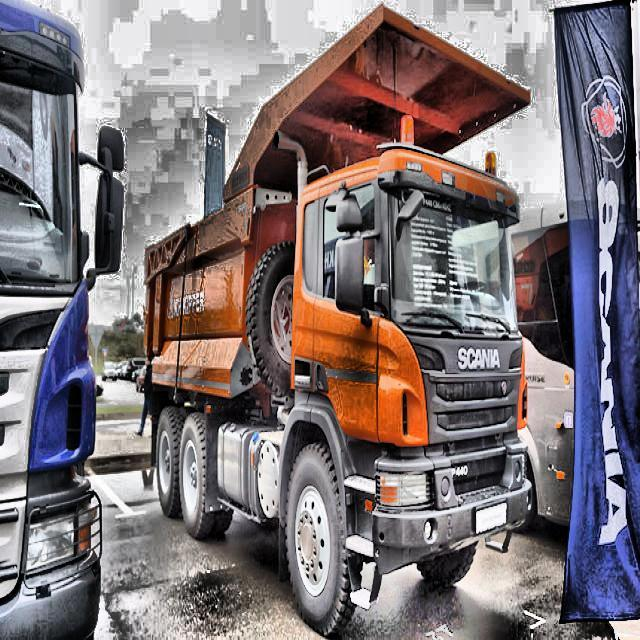dump_truck: (143, 149, 531, 634), (0, 0, 103, 640)
